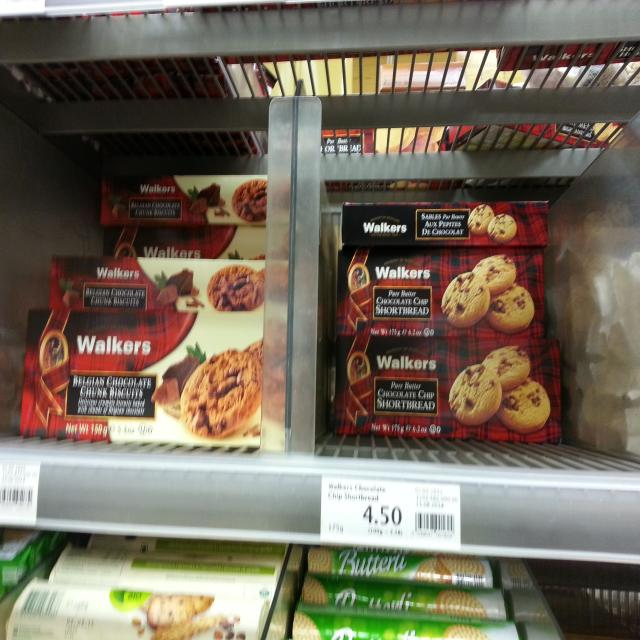Biscuits: (21, 313, 286, 447), (331, 340, 564, 440), (334, 249, 552, 337), (7, 581, 269, 640), (48, 257, 292, 315), (95, 170, 294, 228), (339, 197, 552, 251)
